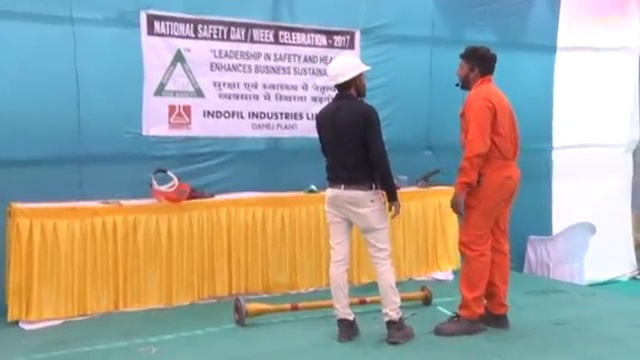helmet: (323, 53, 372, 84)
helmet_off: (456, 45, 497, 91)
helmet_on: (321, 53, 373, 102)
person: (313, 51, 418, 341), (438, 44, 519, 338)
